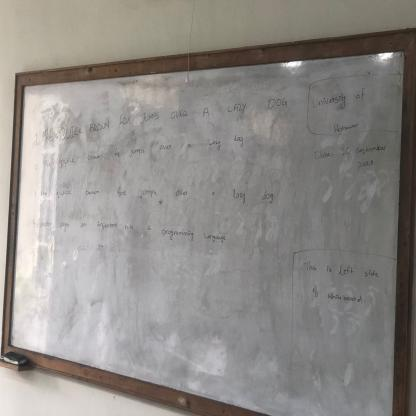Handwritten text: (38, 89, 298, 149), (38, 131, 257, 173), (33, 218, 236, 262), (35, 182, 285, 211), (300, 256, 384, 283), (308, 83, 370, 117), (311, 283, 367, 310), (324, 113, 369, 142), (352, 139, 391, 158), (307, 145, 335, 170)
Whiteboard: (3, 27, 411, 416)
